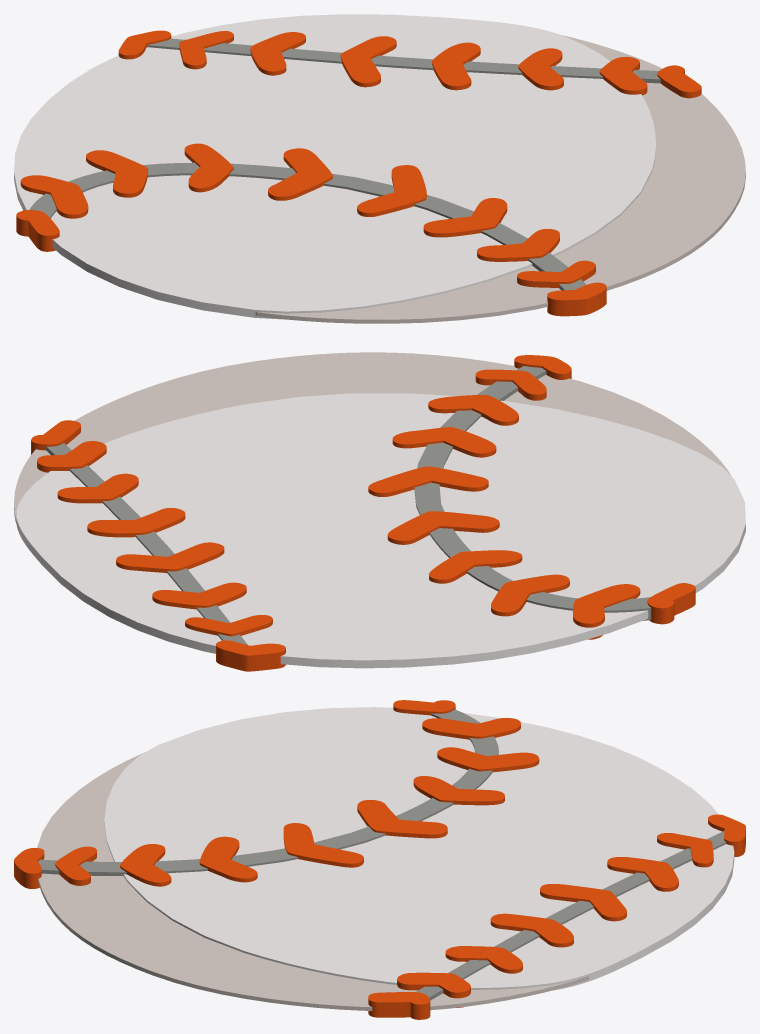
Rendered from emoji_u26be.glb.
3 views of the same model, one above another, from view 1: azimuth 30°, elevation 25°; view 2: azimuth 150°, elevation 25°; view 3: azimuth 270°, elevation 25° (orthographic). The views are drawn at different scales.
Parts seen in each view (by area): view 1: emoji_u26be; view 2: emoji_u26be; view 3: emoji_u26be.
Part boxes in pixels (x1,y1,x2,y2): emoji_u26be: (14, 14, 745, 323); emoji_u26be: (14, 352, 745, 671); emoji_u26be: (14, 700, 745, 1019).
Bounding box in the file's own units: 0.0341 × 0.0008 × 0.0346.
